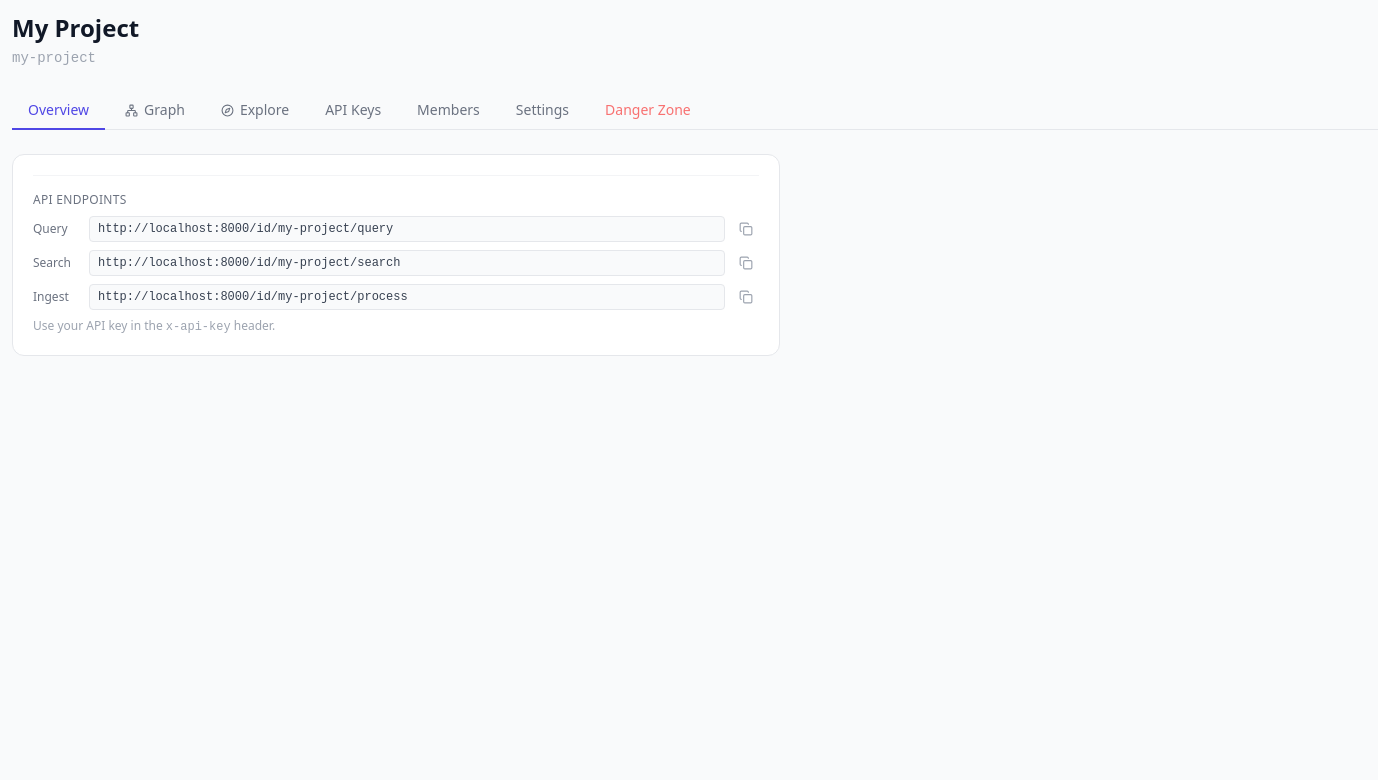
Test: ProjectDetail page › API Keys tab › shows the Create key form when button is clicked
Expected: the heading "My Project" is shown, [12,11,139,44]
Step 1. Click the tab "API Keys" → click(353, 111), box [309,92,397,130]
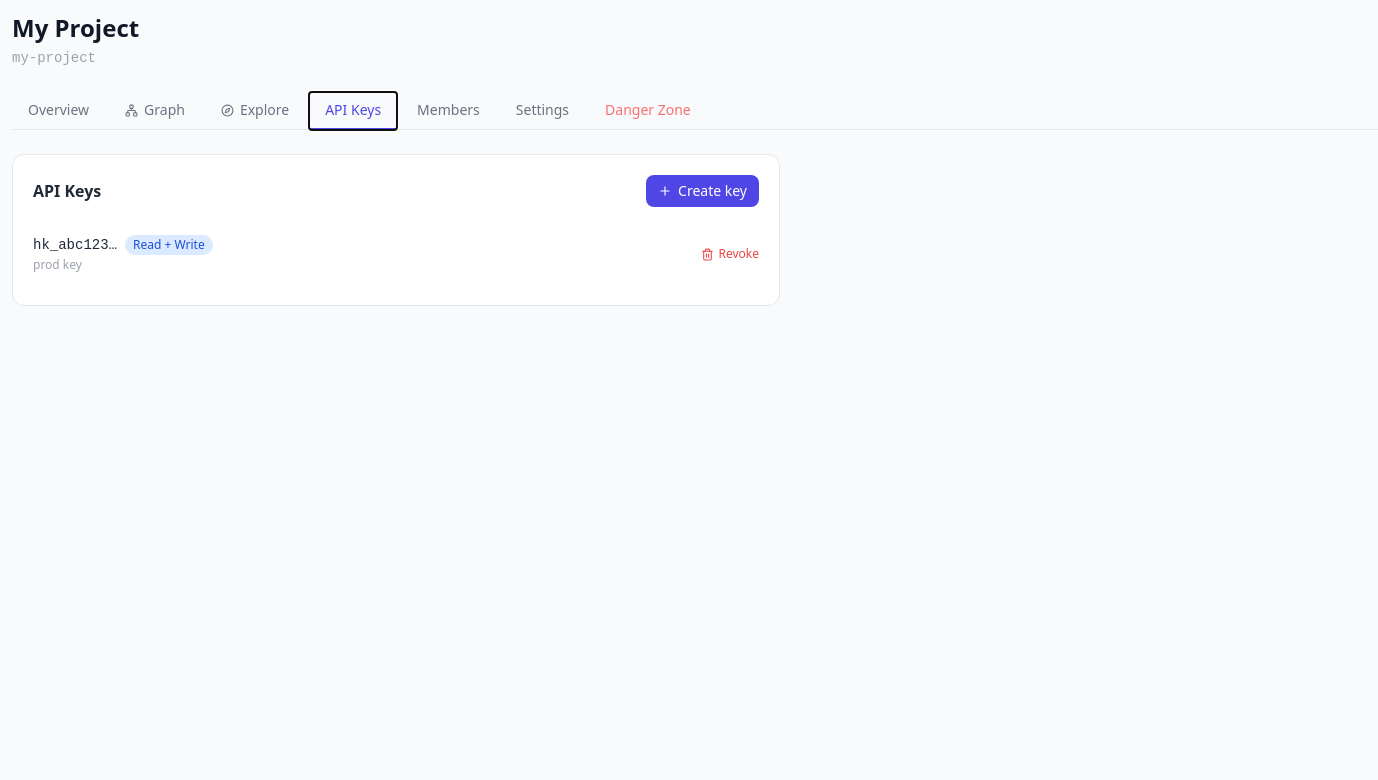
Result: the button "Create key" is shown
Step 2. Click the button "Create key" → click(703, 191), box [646,175,759,207]
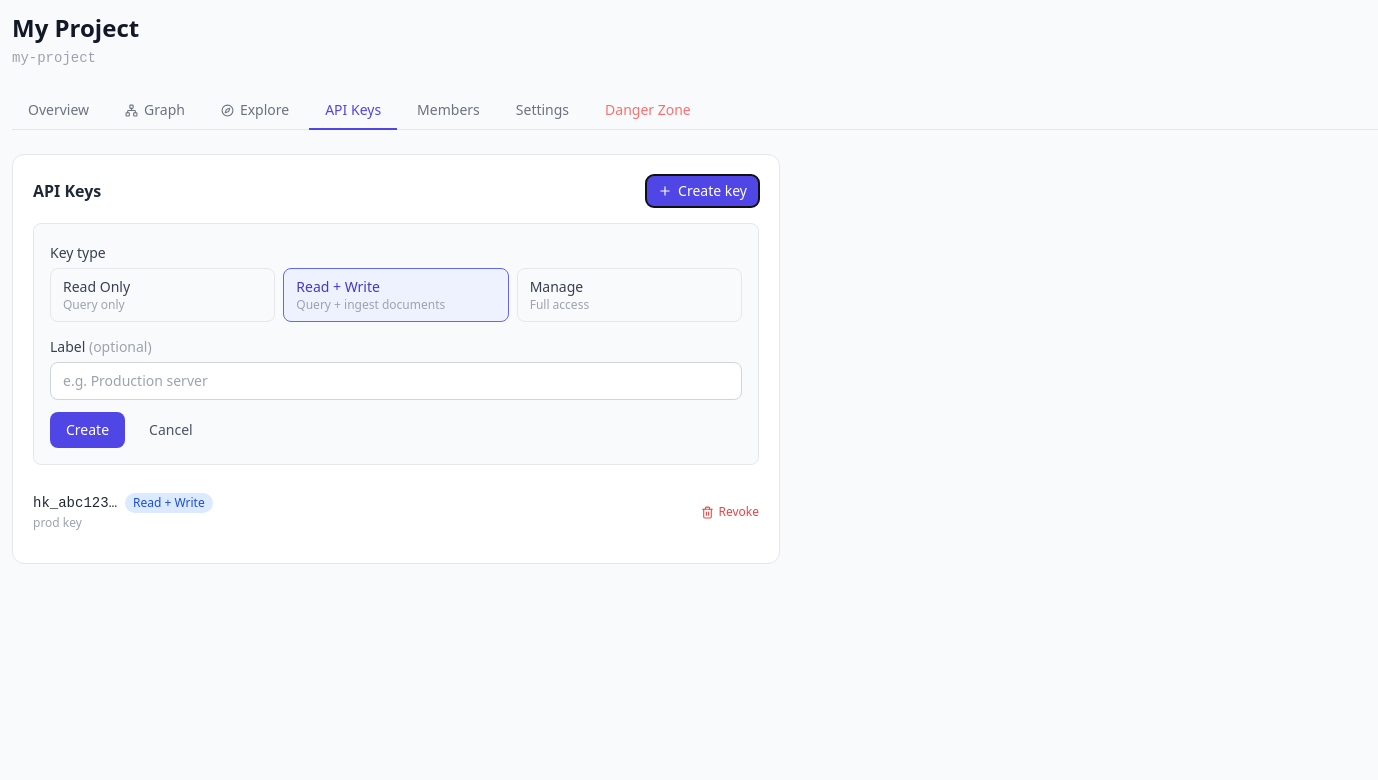
Result: the text "Read Only" is shown at [63,277,130,296]
Result: the text "Manage" is shown at [530,277,583,296]
